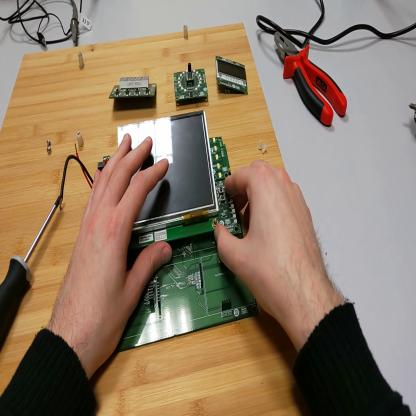hand: (56, 127, 178, 356), (213, 155, 325, 325)
low voltage board: (61, 124, 249, 349)
oscilloscope probe tip: (71, 3, 79, 48)
pliers: (276, 32, 350, 128)
screwdriver-: (2, 193, 61, 351)
working area: (2, 22, 309, 416)
